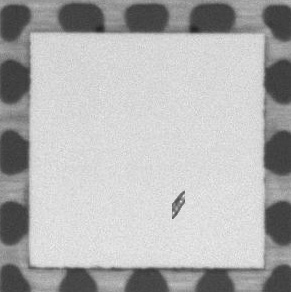DIE_INK: (169, 190, 185, 219)
